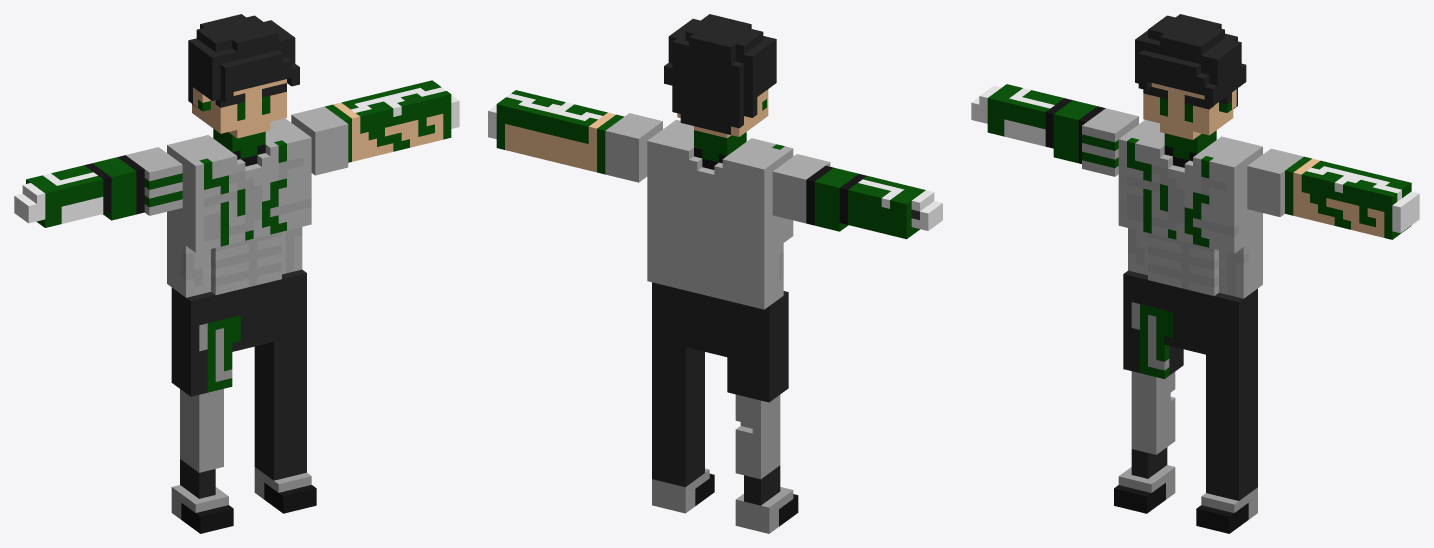
File: monster 3.obj
The picture shows the model from 3 angles, left to right: view 1: azimuth 30°, elevation 25°; view 2: azimuth 150°, elevation 25°; view 3: azimuth 330°, elevation 25°; orthographic projection.
Bounding box in the file's own units: 5.2 × 5.5 × 0.7.
1 material, 1 textured.
